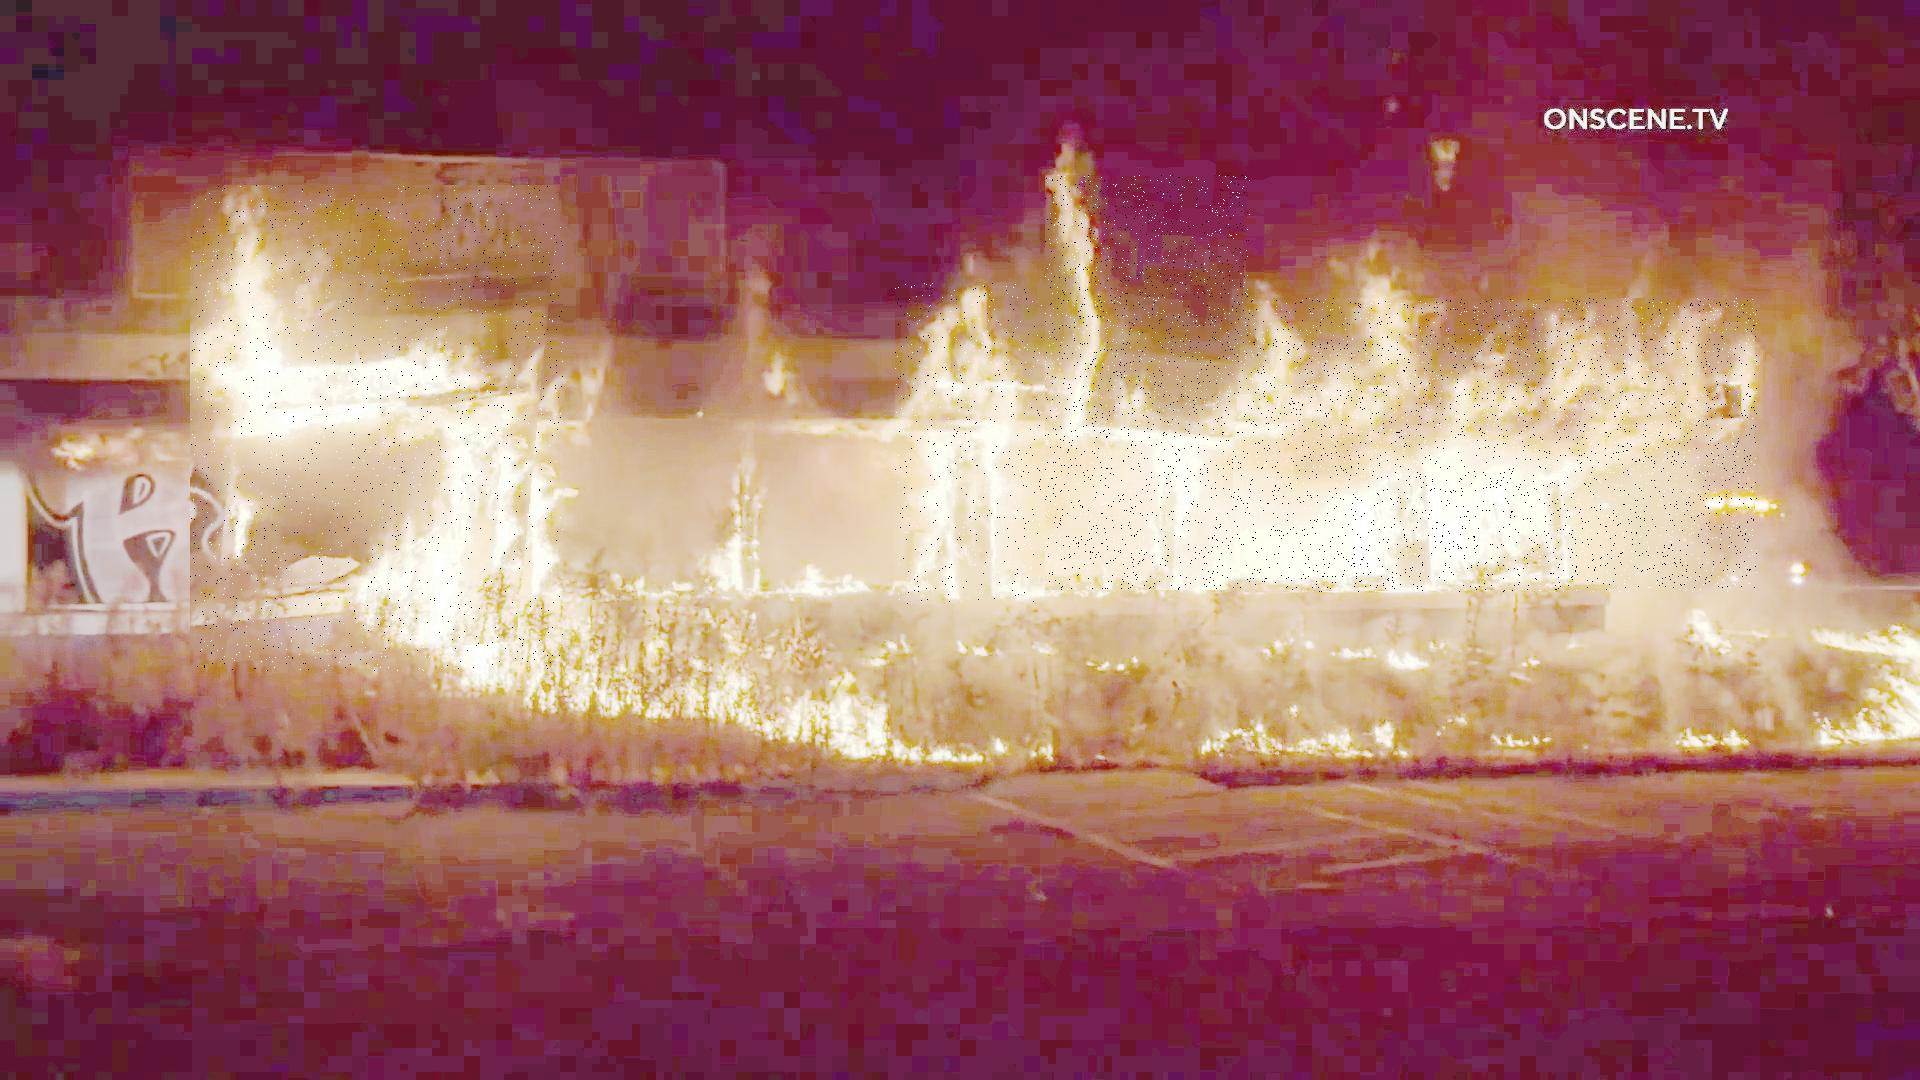fire: (190, 186, 563, 673), (1244, 298, 1758, 592), (1046, 175, 1250, 591), (895, 284, 1043, 604)
